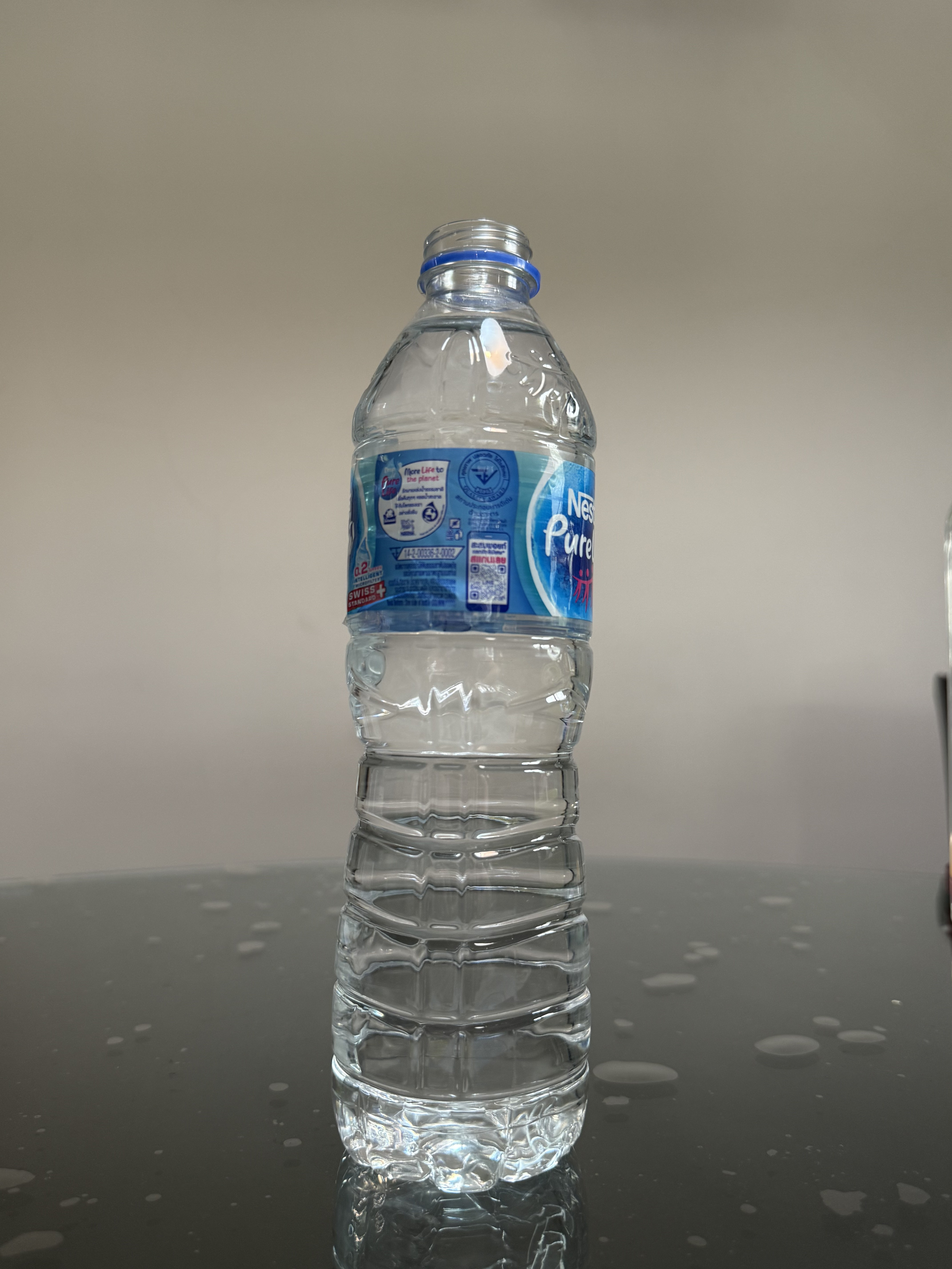no_cap: (418, 218, 543, 294)
